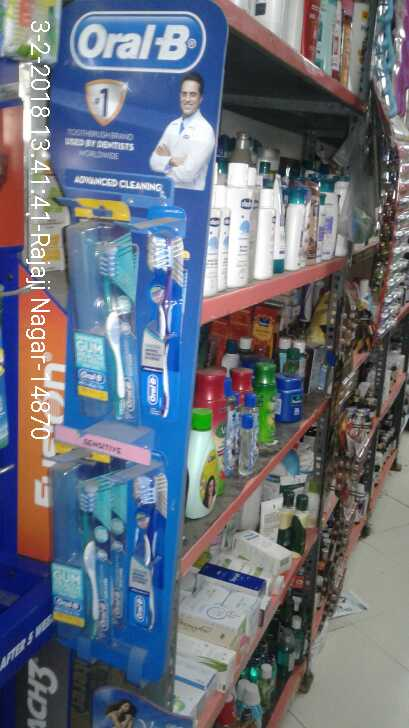oralb: (60, 212, 136, 412), (65, 468, 123, 623), (130, 480, 163, 634), (154, 236, 181, 412)
